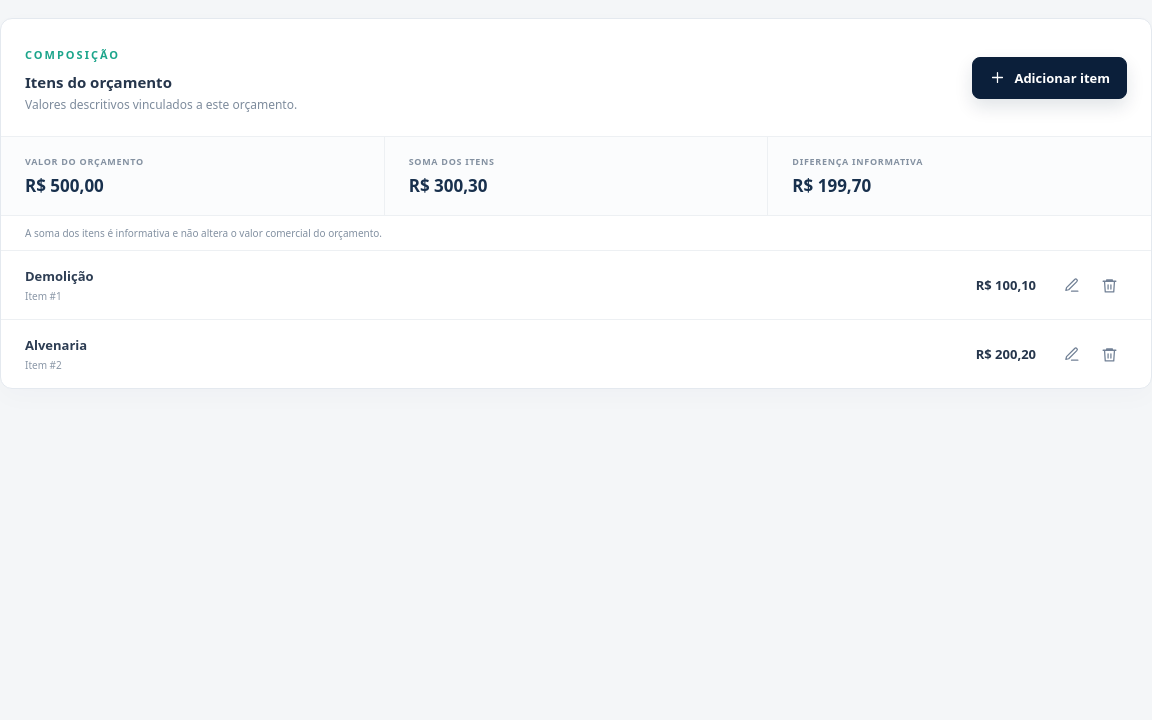
it: itens do orçamento › exclui somente após confirmação e atualiza a lista
Click the button named "Excluir Demolição": (1110, 285) [1092, 268, 1127, 302]
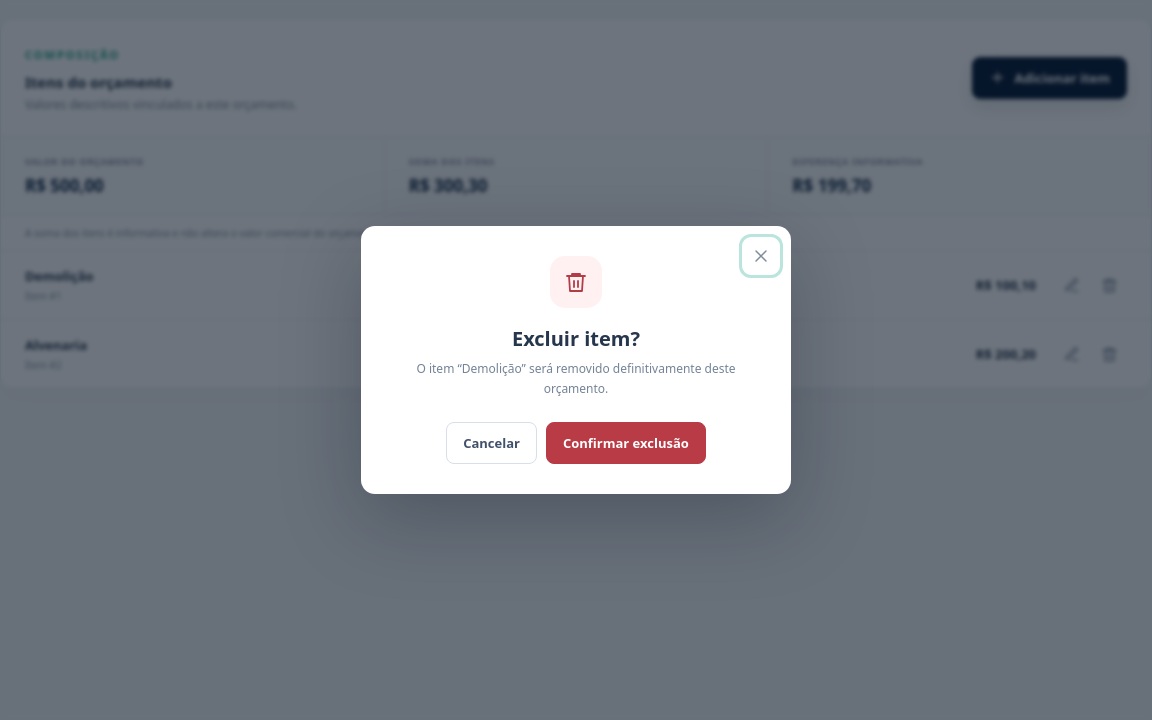
Click the button "Confirmar exclusão": (626, 443) [546, 422, 706, 464]
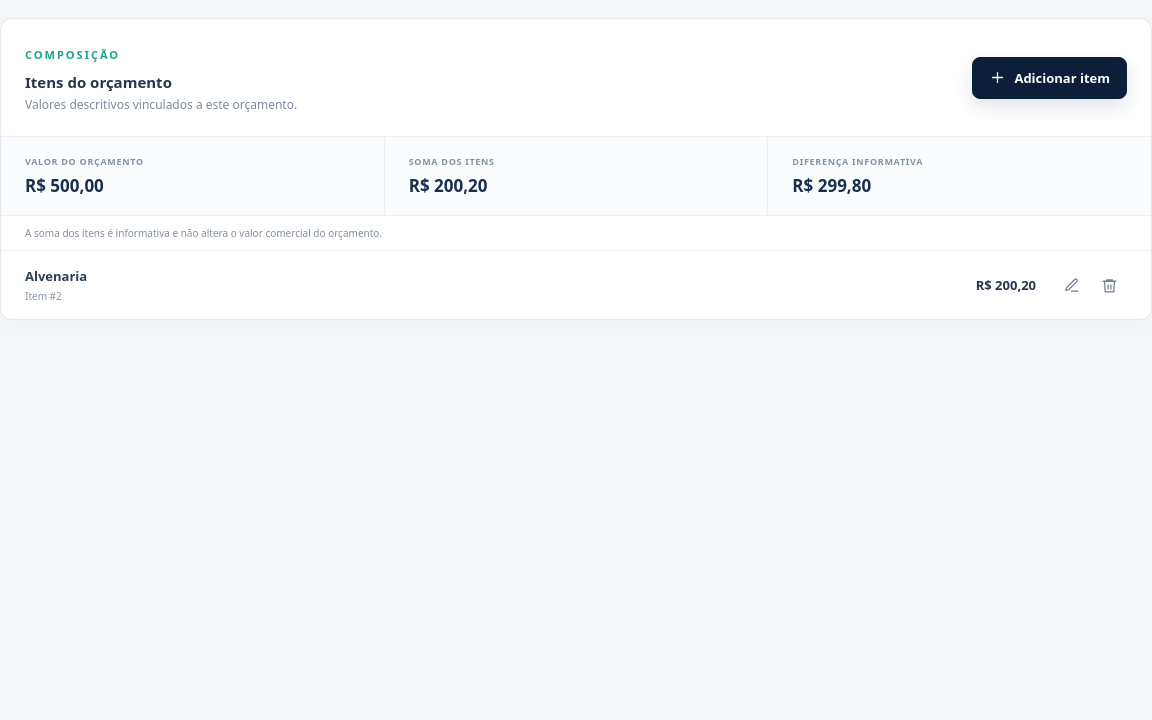
Now the text "Demolição" is gone
